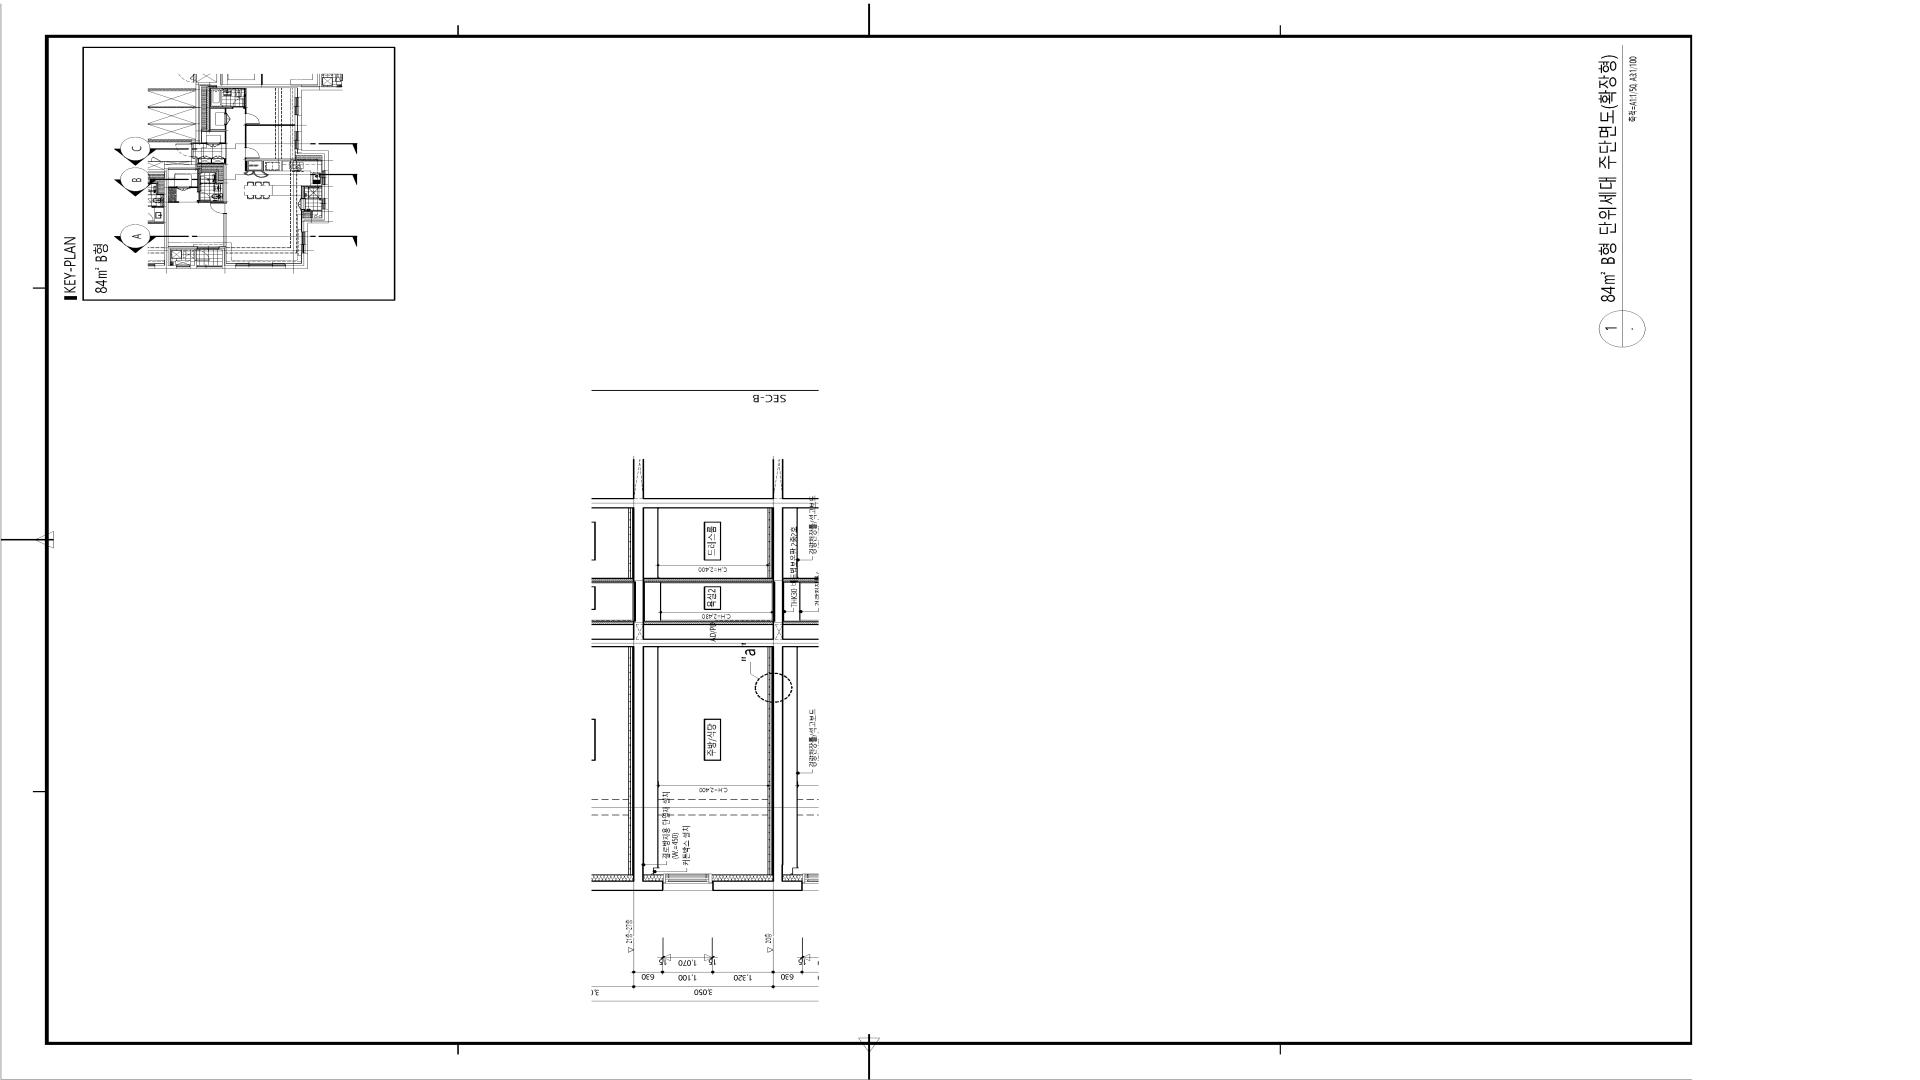background: (0, 0, 1920, 1080)
wall: (633, 459, 783, 891), (644, 509, 773, 638), (644, 578, 773, 583), (644, 621, 773, 625)
window: (663, 874, 712, 890)
